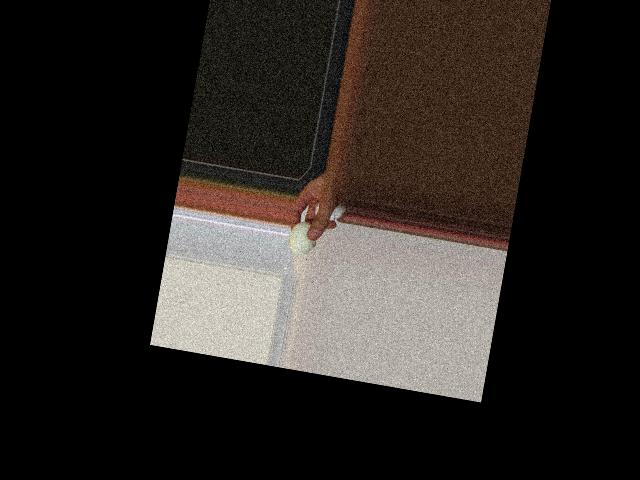egg: (286, 220, 319, 257)
